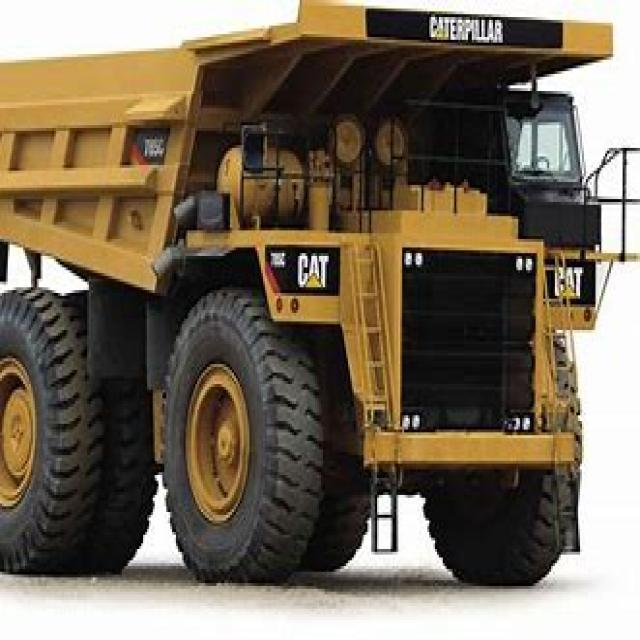dump_truck: (6, 0, 601, 583)
